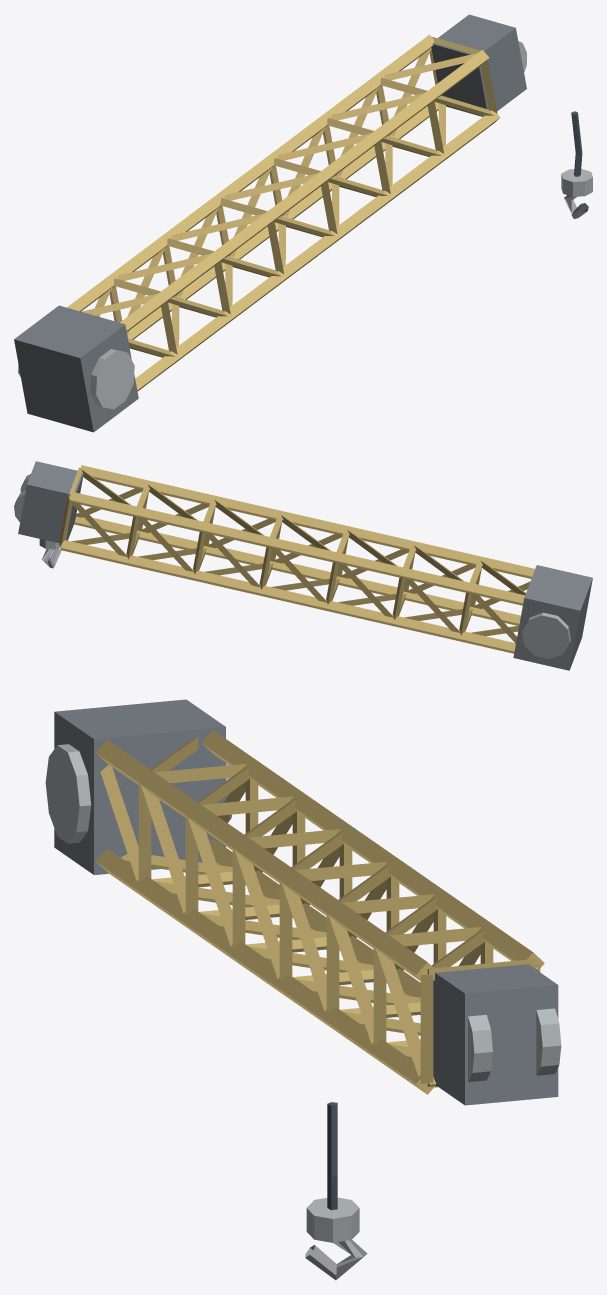
3 views of the same model, one above another, from view 1: azimuth 30°, elevation 25°; view 2: azimuth 150°, elevation 25°; view 3: azimuth 270°, elevation 25° (orthographic). The views are drawn at different scales.
Parts seen in each view (by area): view 1: sea_crane_arm; view 2: sea_crane_arm; view 3: sea_crane_arm.
Boxes of the visible parts, x1,y1,x2,y2 form: sea_crane_arm: (14, 14, 592, 432); sea_crane_arm: (14, 461, 592, 670); sea_crane_arm: (45, 699, 561, 1280).
Bounding box in the file's own units: 7.03 × 1.97 × 3.12.
